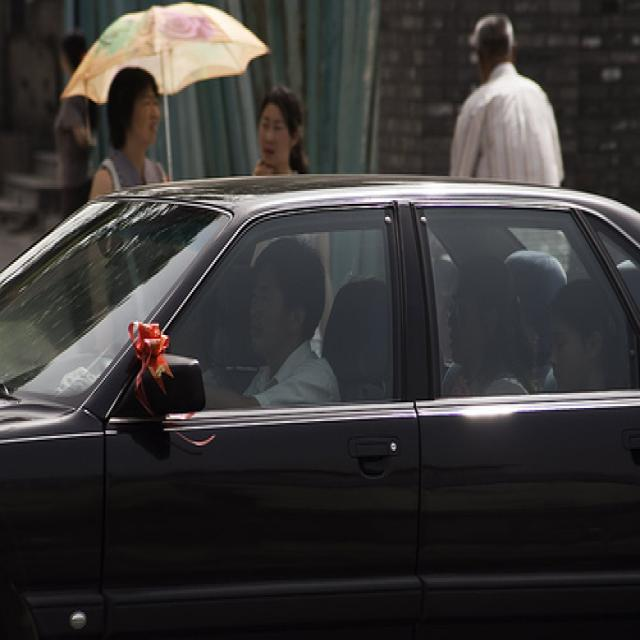light_vehicle: (0, 172, 639, 638)
